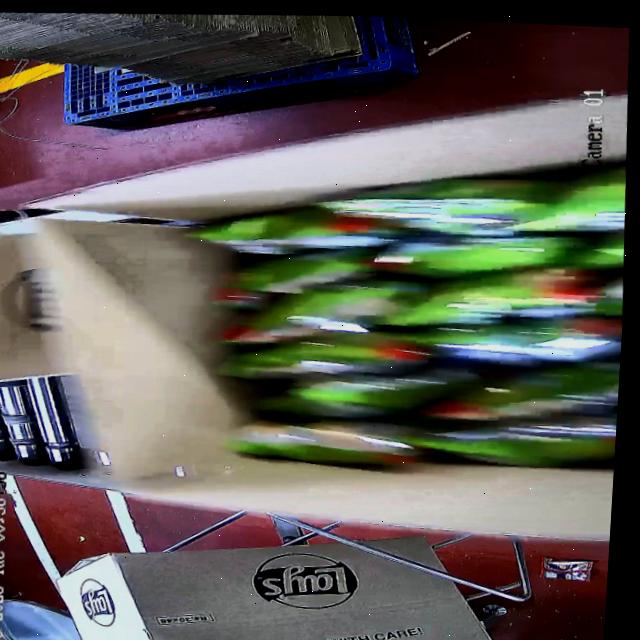YOGURT_HERB: (216, 157, 631, 487)
